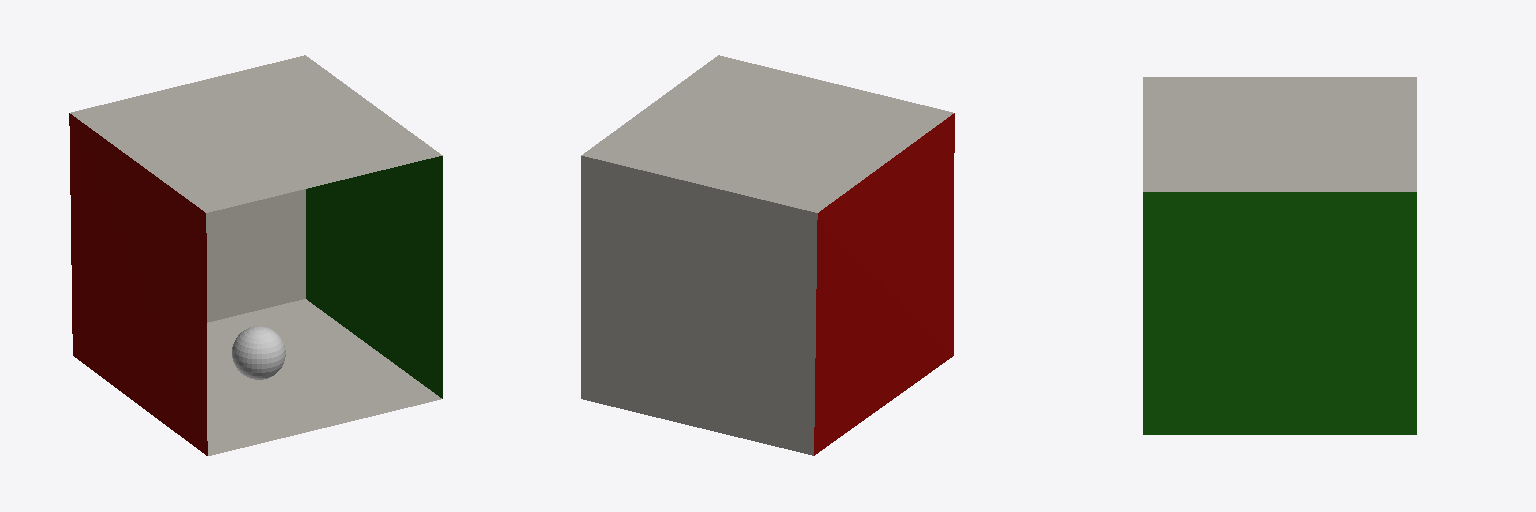
Rendered from ball-cornellbox.obj.
The picture shows the model from 3 angles: view 1: azimuth 30°, elevation 25°; view 2: azimuth 150°, elevation 25°; view 3: azimuth 270°, elevation 25°; orthographic projection.
Visible parts, largest first — view 1: left_wall, ceiling, right_wall, ground, back_wall, Sphere; view 2: back_wall, left_wall, ceiling; view 3: right_wall, ceiling.
Boxes of the visible parts, x1,y1,x2,y2 form: left_wall: [69, 113, 207, 455]; ceiling: [70, 55, 442, 212]; right_wall: [306, 156, 442, 398]; ground: [207, 299, 441, 455]; back_wall: [206, 189, 305, 322]; Sphere: [232, 326, 285, 379]; back_wall: [581, 156, 817, 455]; left_wall: [814, 113, 954, 455]; ceiling: [581, 55, 953, 212]; right_wall: [1143, 192, 1416, 434]; ceiling: [1143, 77, 1416, 191].
Size of the model in its own units: 2.02 by 1.99 by 2.03.